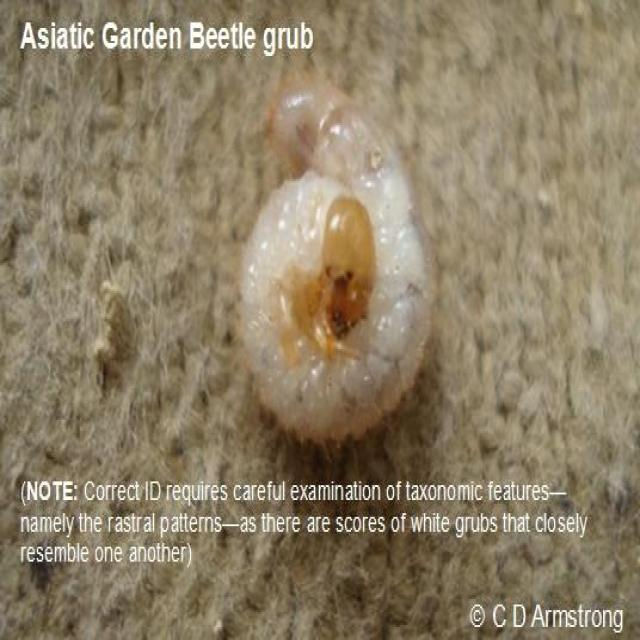Grub-Adult-: (229, 51, 443, 471)
